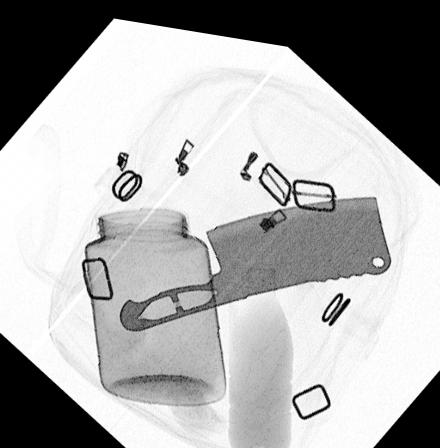Knife: (117, 183, 394, 328)
